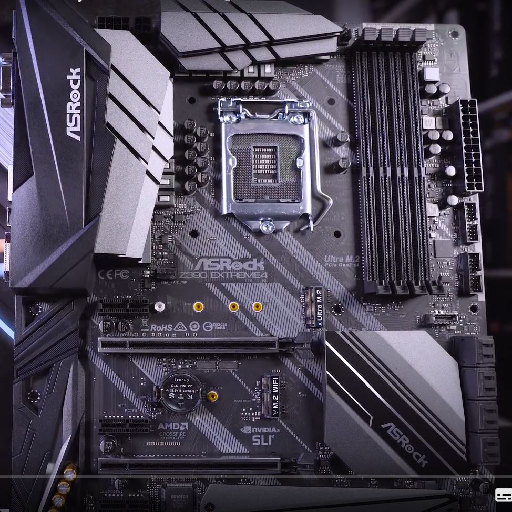CPU: (216, 97, 313, 235)
GPU: (97, 450, 317, 482), (96, 330, 315, 360)
MOTHERBOARD: (8, 22, 504, 510)
RAM: (349, 27, 445, 299)
SSD: (256, 374, 286, 421), (299, 285, 327, 328)
